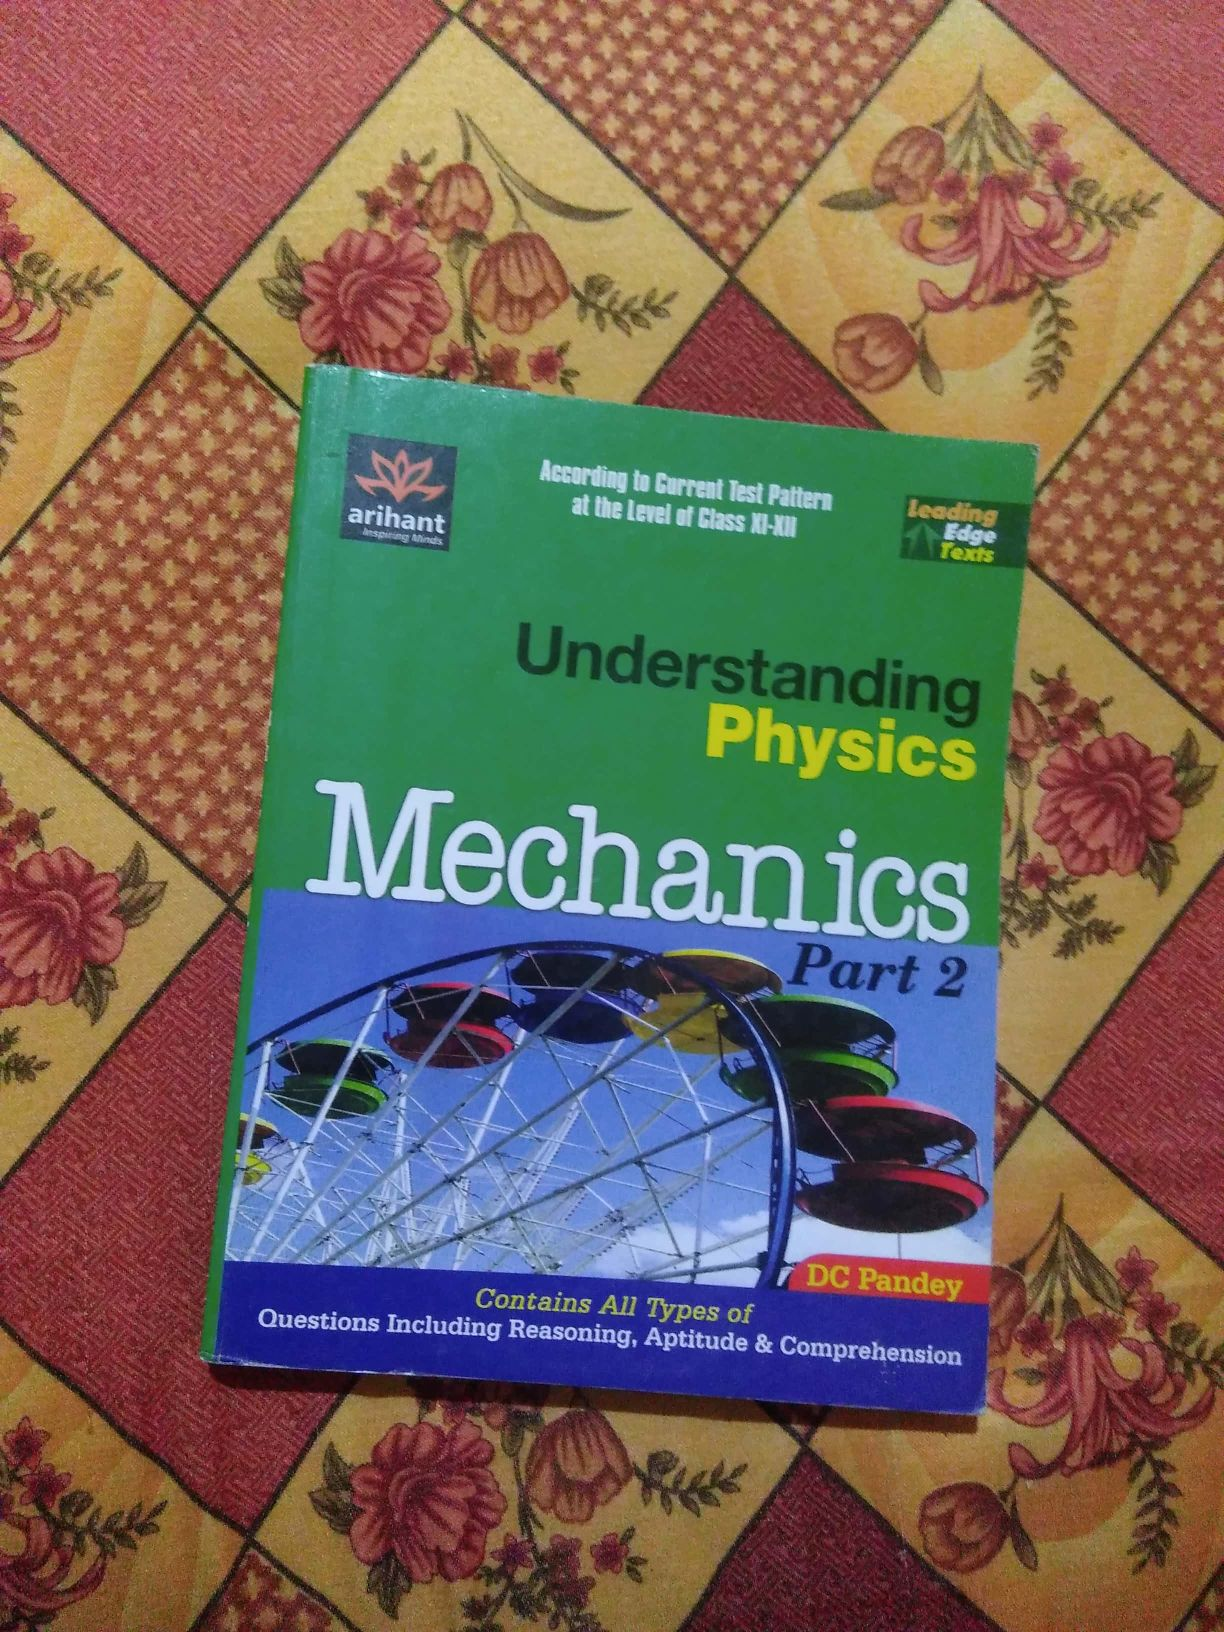mechanics: (217, 365, 1075, 1453)
